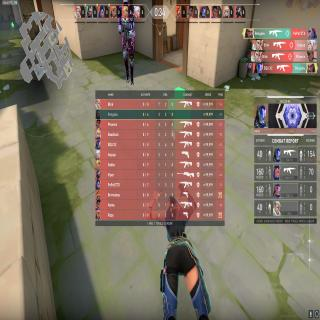ENEMY-BODY: (117, 0, 137, 87)
ENEMY-HEAD: (122, 0, 129, 11)
